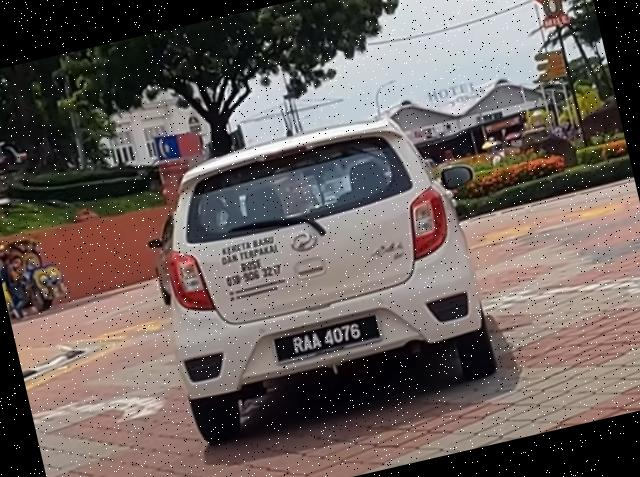License_Plate: (271, 311, 385, 366)
car: (131, 95, 520, 449)
